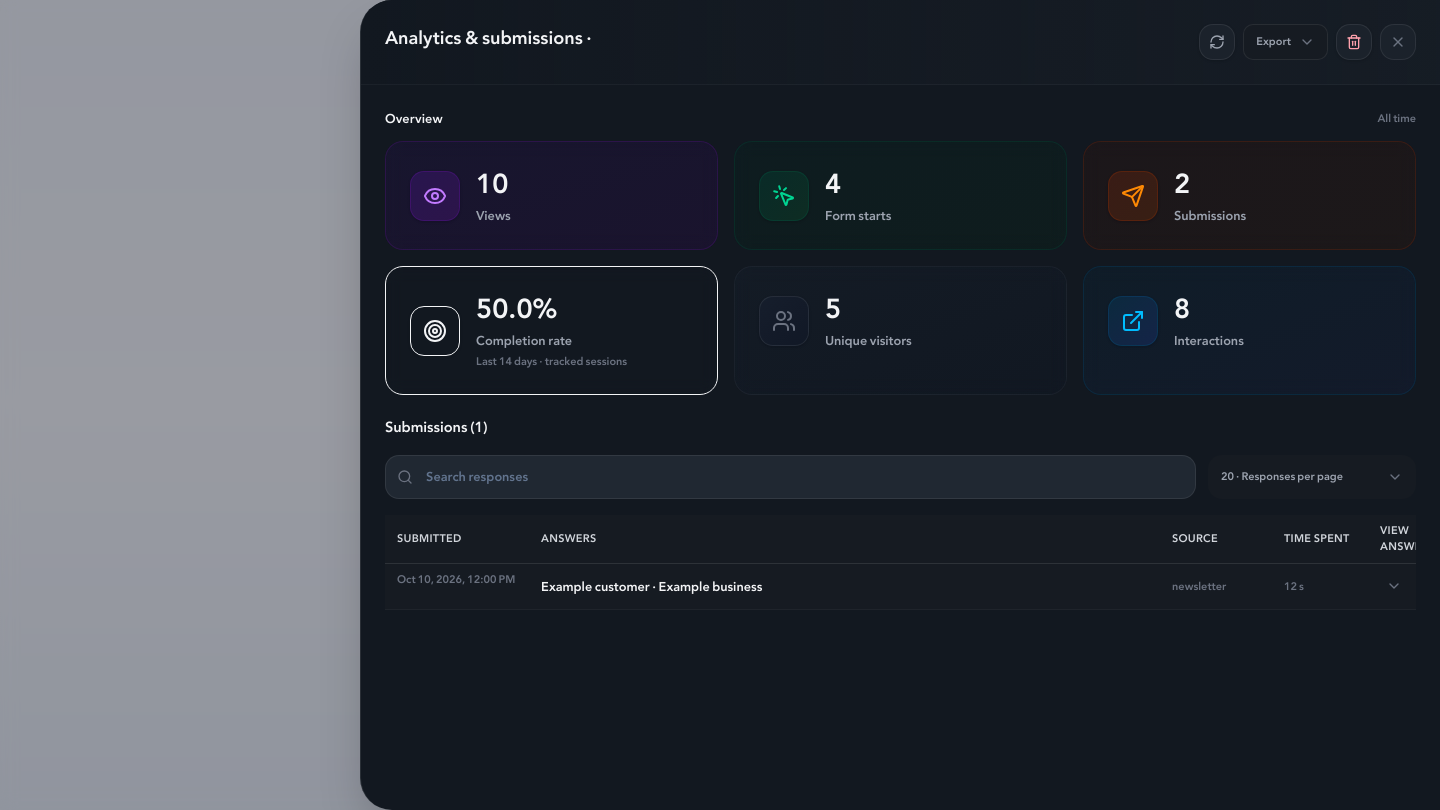
combined form insights › keeps deletion failures inline and hides deletion for read-only viewers
Check: the button "Delete all form data" is not shown
What coordinates should you click on to do the following:
click the button named "Delete all form data"
I would click on:
 (1354, 42)
Its box is [1336,24,1372,60].
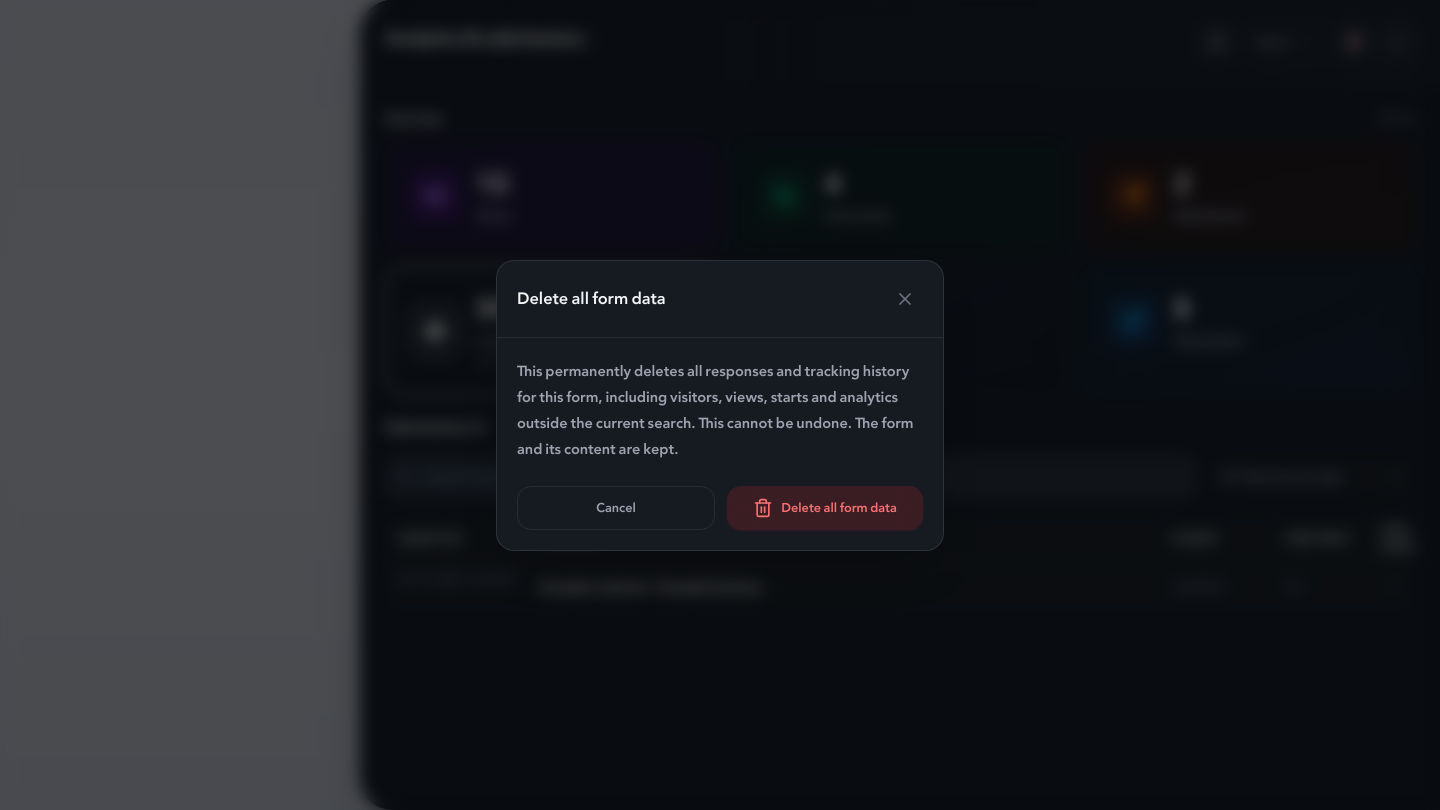
What coordinates should you click on to do the following:
click the button "Delete all form data"
I would click on:
 (825, 508)
Its box is [727,486,923,530].
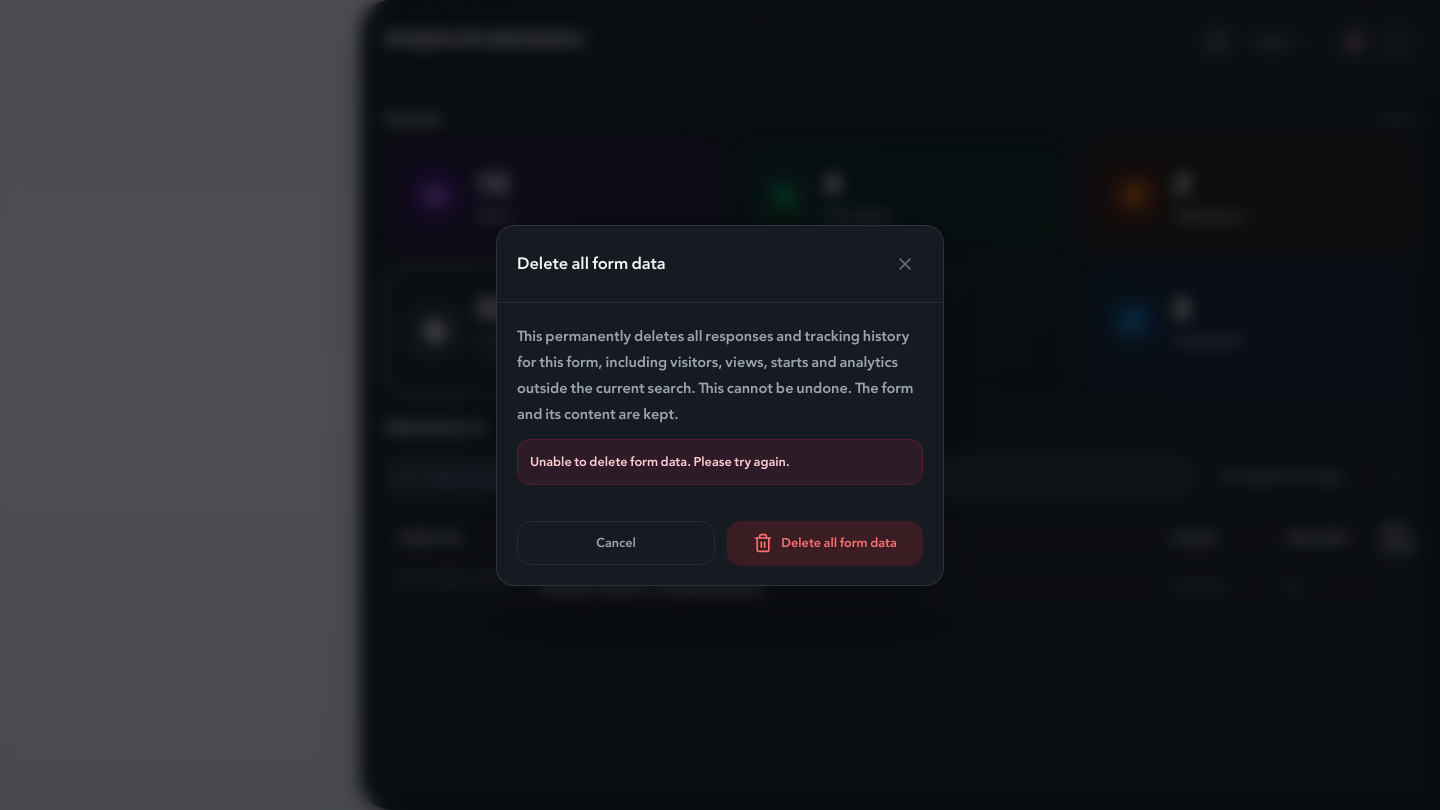
Check: the dialog "Delete all form data" is shown, box [496,224,944,586]
Check: the text "Unable to delete form data. Please try again." is shown, box [517,438,923,484]
